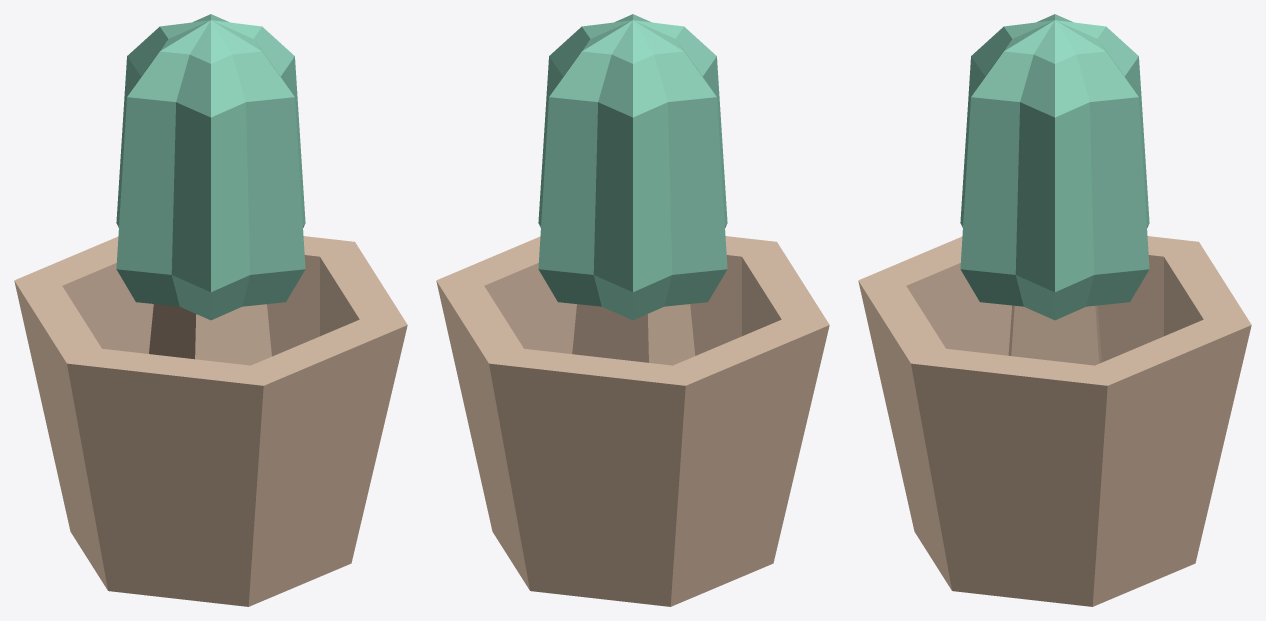
File: plant_small.glb
3 views of the same model, side by side, from view 1: azimuth 30°, elevation 25°; view 2: azimuth 150°, elevation 25°; view 3: azimuth 270°, elevation 25° (orthographic).
Parts seen in each view (by area): view 1: plantSmall2(Clone); view 2: plantSmall2(Clone); view 3: plantSmall2(Clone).
Boxes of the visible parts, x1,y1,x2,y2 form: plantSmall2(Clone): (14, 14, 407, 606); plantSmall2(Clone): (436, 14, 829, 606); plantSmall2(Clone): (858, 14, 1251, 606).
Bounding box in the file's own units: 0.1988 × 0.294 × 0.1988.
